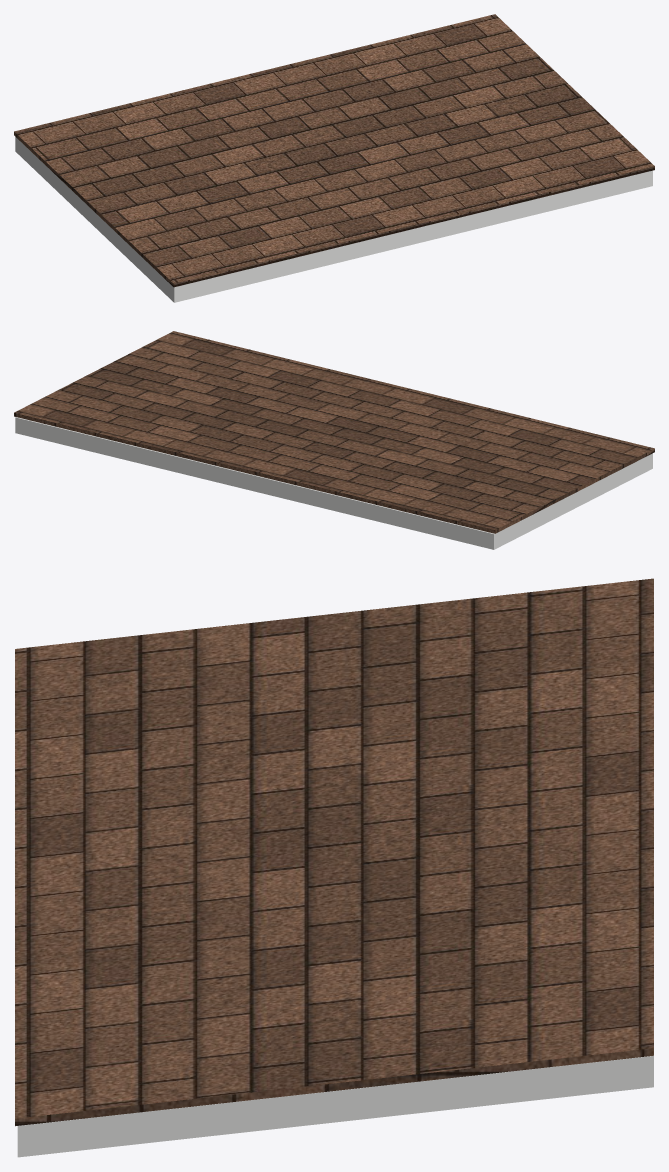
The model's file is porch_roof.glb.
3 renders of one model, top to bottom at view 1: azimuth 30°, elevation 25°; view 2: azimuth 150°, elevation 25°; view 3: azimuth 270°, elevation 25°, orthographic. The views are drawn at different scales.
Visible parts, largest first — view 1: porch_roof_shingle, porch_roof_trim; view 2: porch_roof_shingle, porch_roof_trim; view 3: porch_roof_shingle, porch_roof_trim.
Part boxes in pixels (x1=…): porch_roof_shingle: x1=14, y1=14, x2=654, y2=287; porch_roof_trim: x1=15, y1=137, x2=652, y2=302; porch_roof_shingle: x1=14, y1=331, x2=654, y2=533; porch_roof_trim: x1=15, y1=417, x2=652, y2=549; porch_roof_shingle: x1=15, y1=578, x2=653, y2=1126; porch_roof_trim: x1=17, y1=1055, x2=653, y2=1157.
Size of the model in its own units: 4 by 0.4388 by 2.3.
2 materials, 1 textured.
